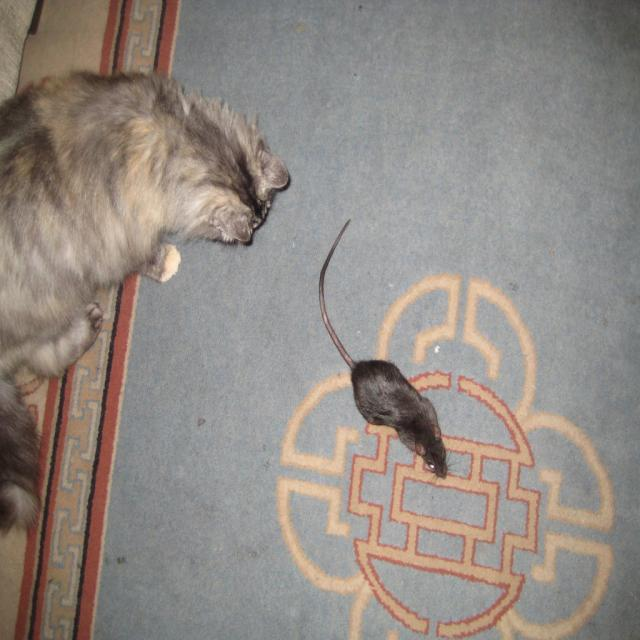rat: (316, 218, 452, 481)
